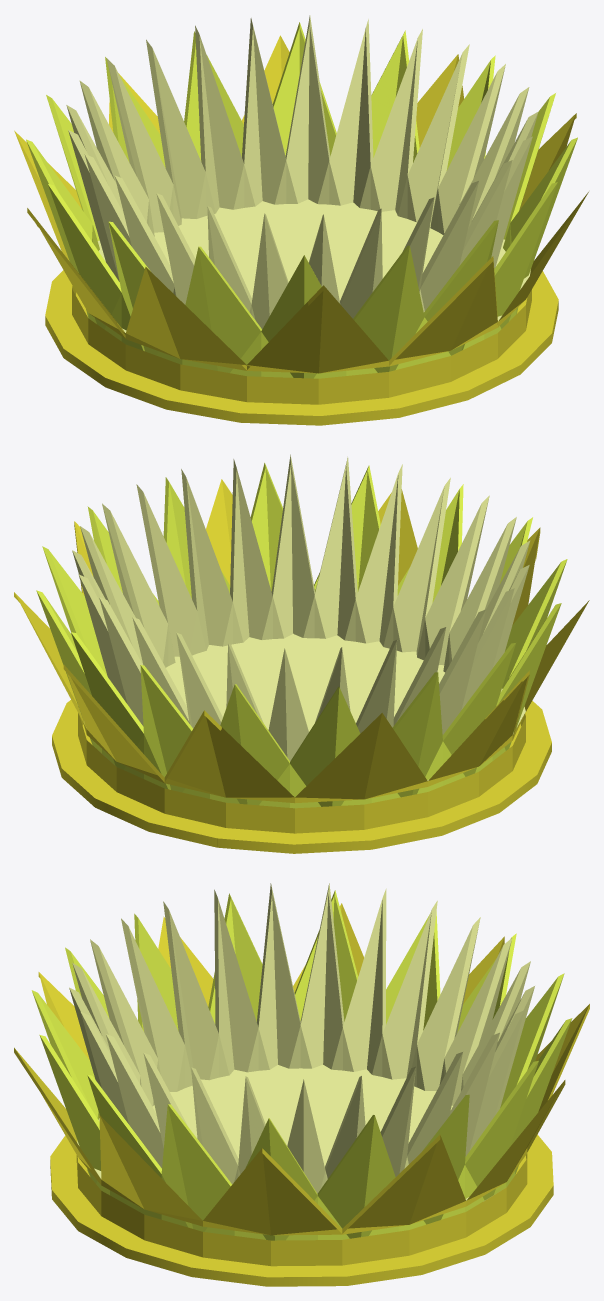
File: portal_abrir_000034.obj
The picture shows the model from 3 angles, top to bottom: view 1: azimuth 30°, elevation 25°; view 2: azimuth 150°, elevation 25°; view 3: azimuth 270°, elevation 25°; orthographic projection. The views are drawn at different scales.
Visible parts, largest first — view 1: Cylinder.001, pCylinder1, Cylinder; view 2: Cylinder.001, pCylinder1, Cylinder; view 3: Cylinder.001, pCylinder1, Cylinder.
Part boxes in pixels (x1=…): Cylinder.001: x1=66, y1=15, x2=538, y2=328; pCylinder1: x1=14, y1=35, x2=588, y2=425; Cylinder: x1=26, y1=22, x2=577, y2=378; Cylinder.001: x1=72, y1=454, x2=530, y2=761; pCylinder1: x1=14, y1=479, x2=589, y2=853; Cylinder: x1=36, y1=462, x2=567, y2=808; Cylinder.001: x1=69, y1=883, x2=534, y2=1193; pCylinder1: x1=14, y1=903, x2=589, y2=1286; Cylinder: x1=31, y1=890, x2=572, y2=1240.
Bounding box in the file's own units: 6.25 × 2.38 × 6.21.
4 materials, 4 textured.
